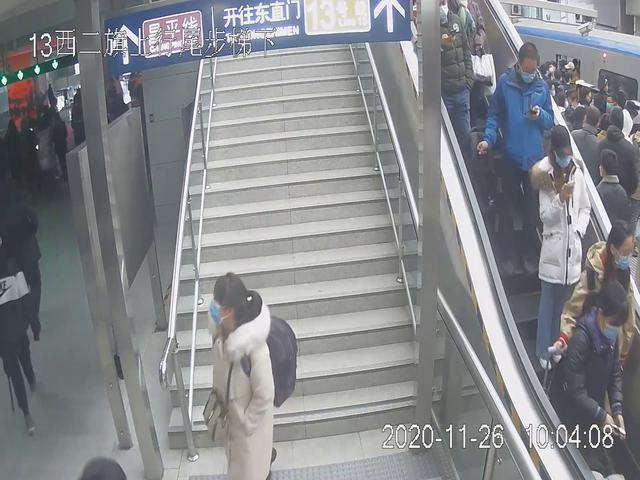person: (202, 268, 295, 480), (475, 38, 551, 278), (529, 124, 592, 372)
